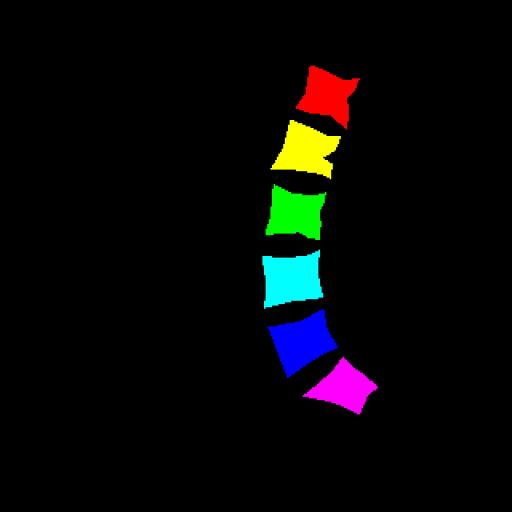L1: (296, 66, 360, 128)
L2: (271, 120, 341, 178)
L3: (266, 184, 326, 240)
L4: (262, 250, 323, 308)
L5: (268, 310, 337, 376)
S1: (303, 357, 378, 414)
